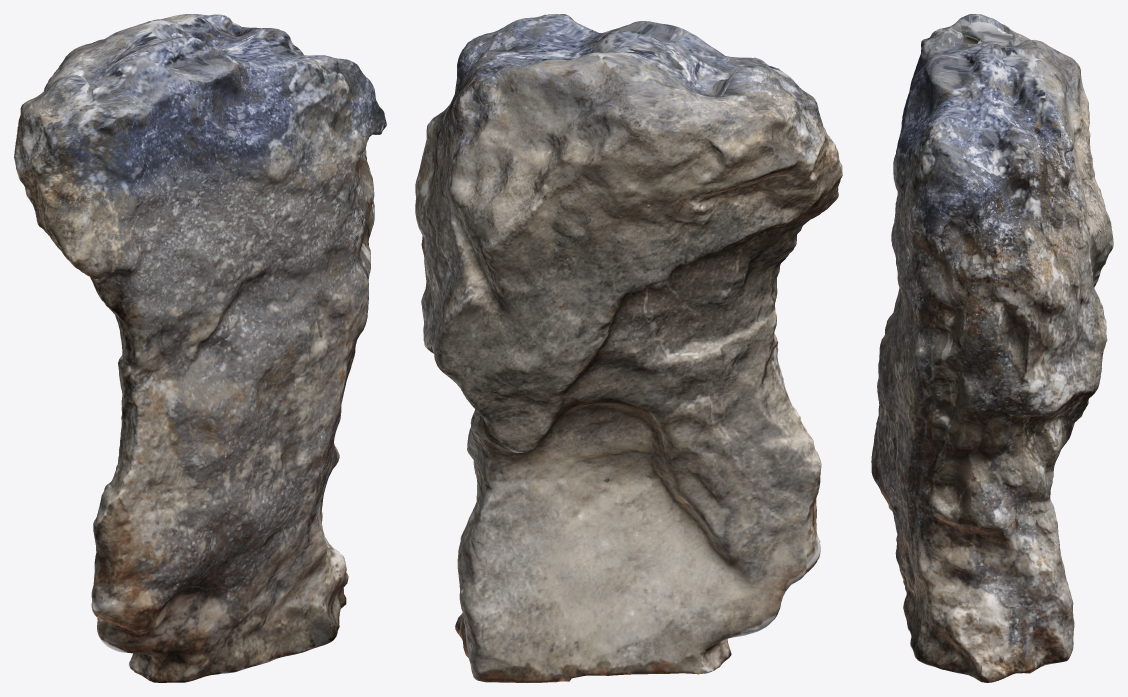
File: sparse3.glb
The picture shows the model from 3 angles, left to right: view 1: azimuth 30°, elevation 25°; view 2: azimuth 150°, elevation 25°; view 3: azimuth 270°, elevation 25°; orthographic projection. The views are drawn at different scales.
Bounding box in the file's own units: 2.54 × 4.16 × 1.64.
1 material, 1 textured.
